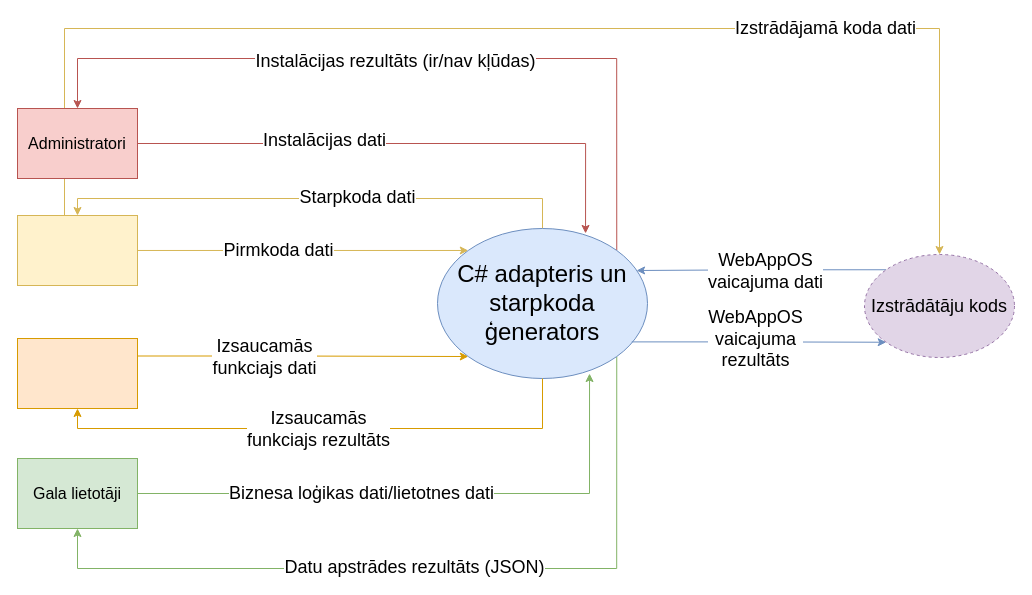
Some shapes in this 1032 by 595 pixel diagram are drawn without their labels. Each missing label, with the centre of its shape:
"Izstrādātāji" belongs at point 77,250.
"WebAppOS" belongs at point 77,373.
